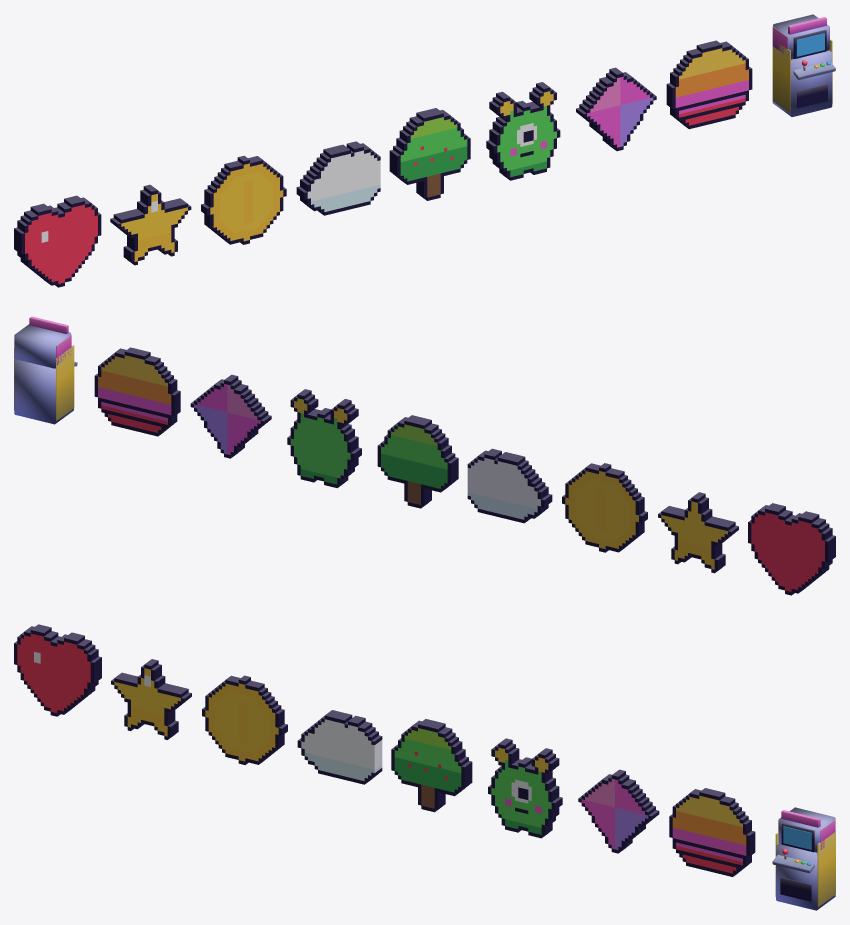
The model's file is RetroProps.fbx.
The picture shows the model from 3 angles, top to bottom: view 1: azimuth 30°, elevation 25°; view 2: azimuth 150°, elevation 25°; view 3: azimuth 330°, elevation 25°; orthographic projection.
Parts seen in each view (by area): view 1: PixelSun, PixelHeart, ArcadeCabinet, PixelCoin, PixelAlien, PixelTree, PixelCloud, PixelGem, PixelStar; view 2: PixelSun, ArcadeCabinet, PixelHeart, PixelCoin, PixelAlien, PixelTree, PixelCloud, PixelGem, PixelStar; view 3: PixelSun, PixelHeart, ArcadeCabinet, PixelCoin, PixelAlien, PixelTree, PixelCloud, PixelGem, PixelStar.
Part boxes in pixels (x1,y1,x2,y2): PixelSun: [666, 40, 752, 129]; PixelHeart: [14, 195, 101, 287]; ArcadeCabinet: [772, 14, 835, 116]; PixelCoin: [201, 155, 286, 244]; PixelAlien: [486, 82, 560, 180]; PixelTree: [389, 108, 470, 200]; PixelCloud: [296, 141, 380, 215]; PixelGem: [576, 67, 656, 151]; PixelStar: [110, 184, 191, 265]; PixelSun: [94, 347, 180, 436]; ArcadeCabinet: [14, 316, 77, 424]; PixelHeart: [748, 503, 835, 595]; PixelCoin: [562, 463, 647, 552]; PixelAlien: [287, 389, 361, 488]; PixelTree: [377, 415, 458, 508]; PixelCloud: [467, 448, 552, 523]; PixelGem: [190, 374, 271, 458]; PixelStar: [658, 492, 738, 573]; PixelSun: [669, 788, 755, 876]; PixelHeart: [14, 624, 101, 716]; ArcadeCabinet: [772, 807, 835, 910]; PixelCoin: [202, 675, 287, 764]; PixelAlien: [488, 738, 562, 838]; PixelTree: [391, 719, 472, 812]; PixelCloud: [297, 710, 382, 784]; PixelGem: [578, 769, 659, 853]; PixelStar: [111, 659, 191, 739].
Size of the model in its own units: 121 by 12.55 by 6.41.
1 material, 1 textured.
